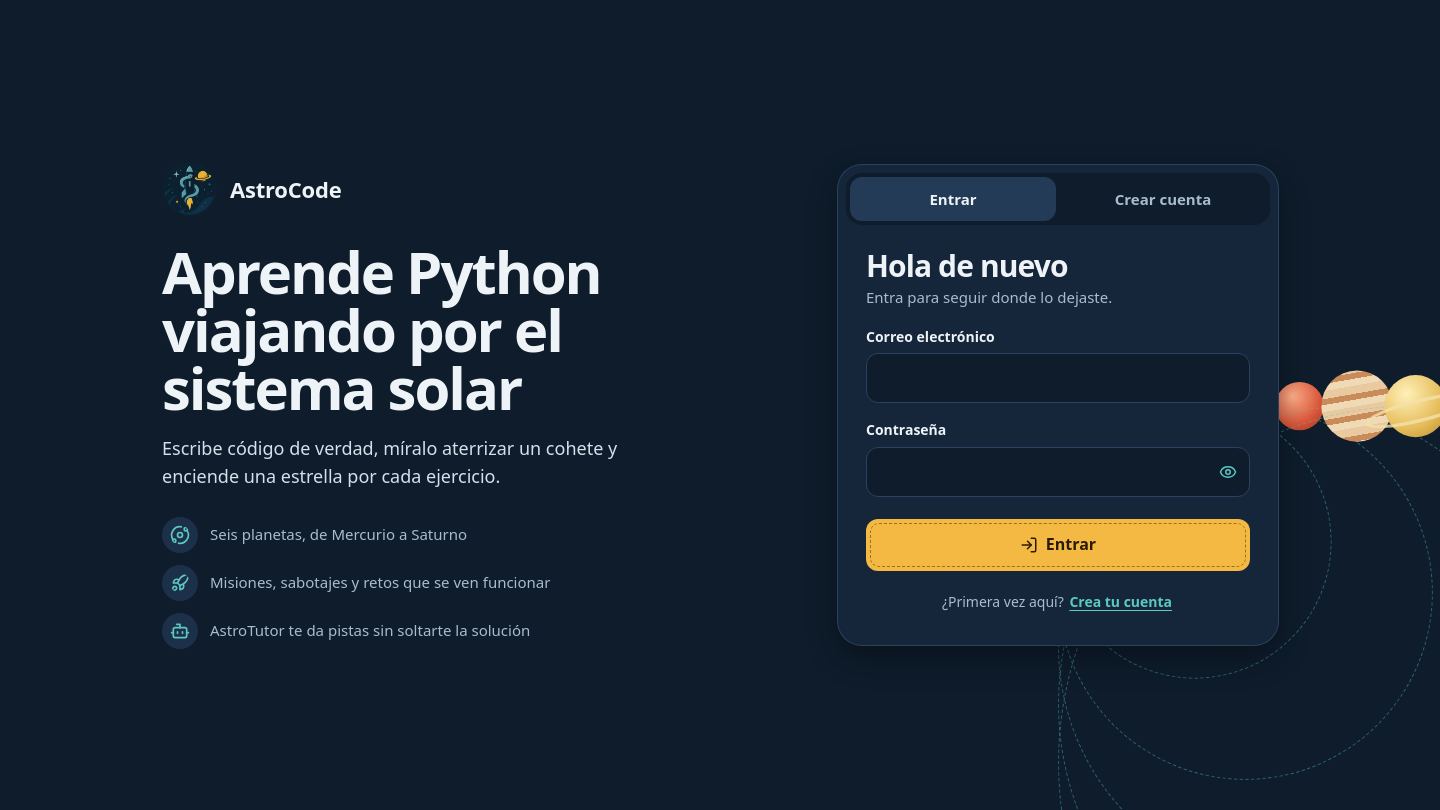
Test: entrar: credenciales malas da un mensaje claro
Type "ana@correo.com" into the field labelled "Correo electrónico" at {"x": 1058, "y": 378}, box x1=866 y1=353 x2=1250 y2=403
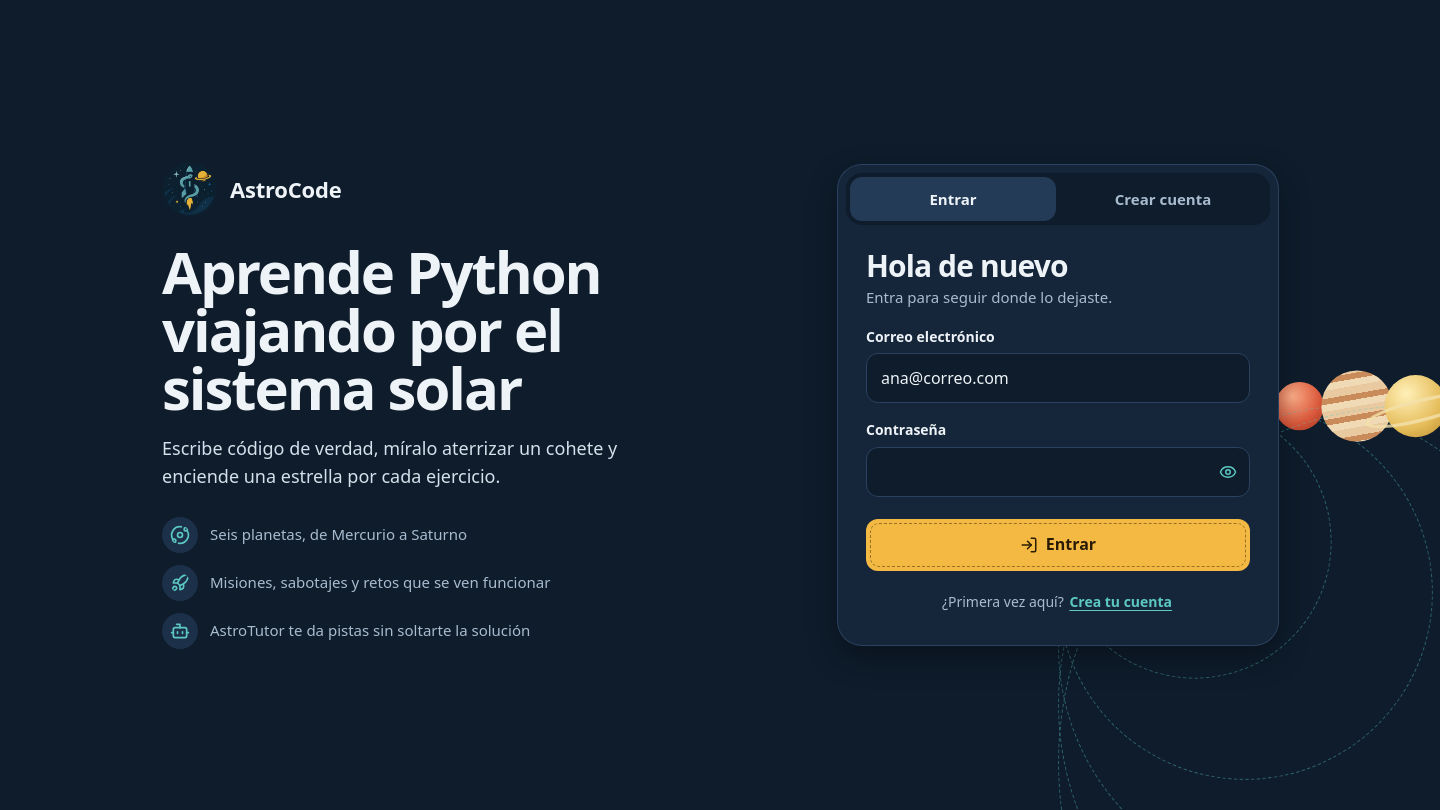
Type "mala12345" into the password field labelled "Contraseña" at {"x": 1058, "y": 472}, box x1=866 y1=447 x2=1250 y2=497
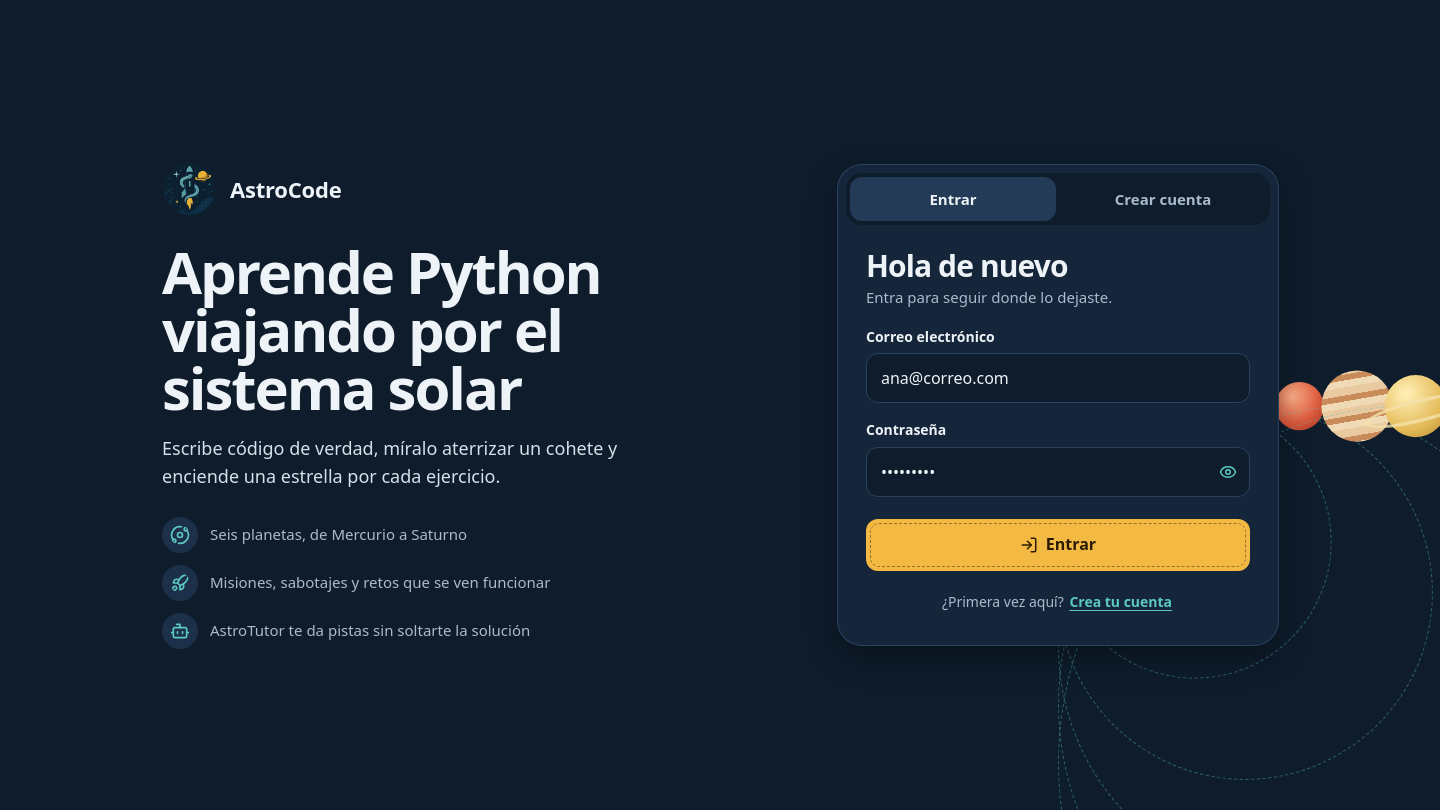
Click the button "Entrar" at {"x": 1058, "y": 545}, box x1=866 y1=519 x2=1250 y2=571
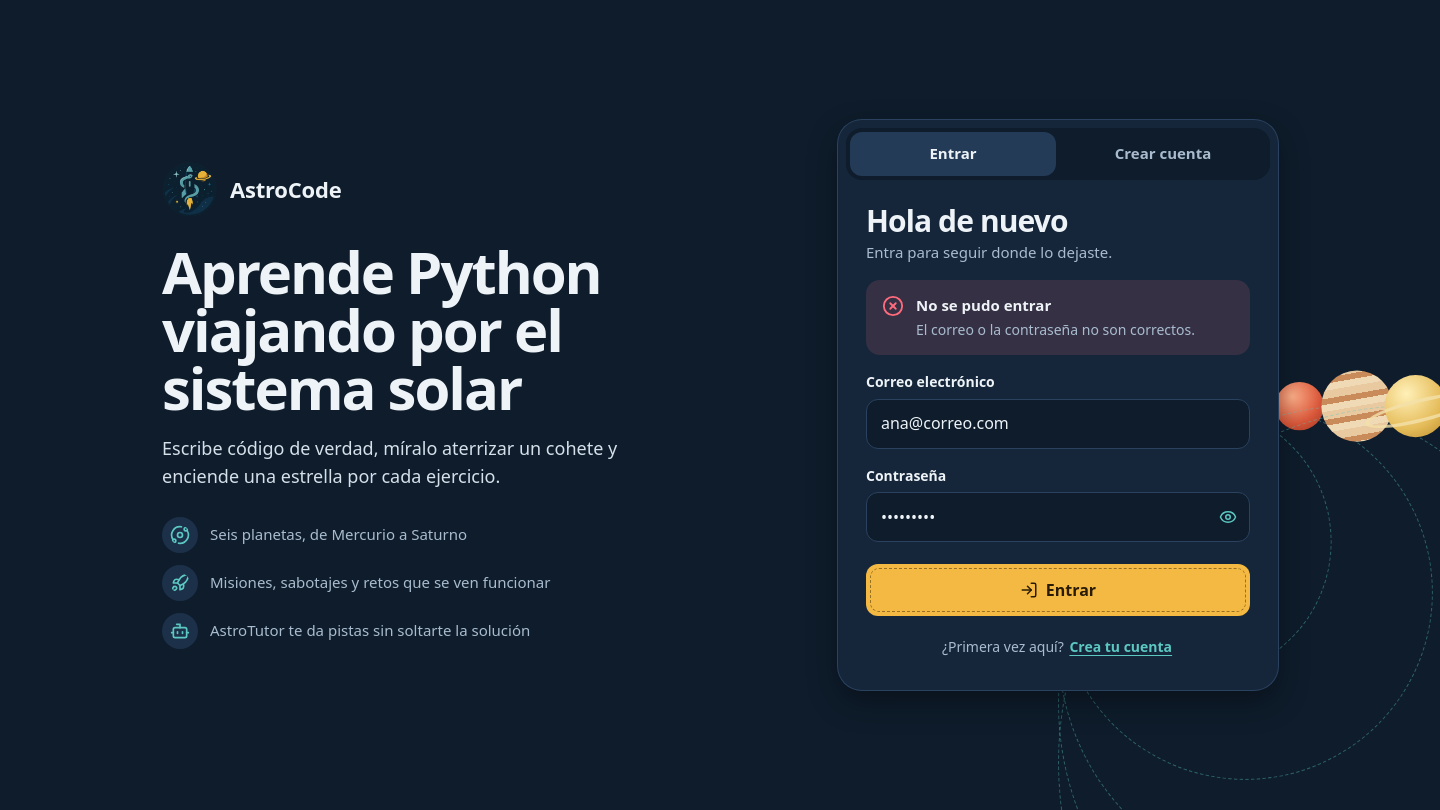
Now the text "El correo o la contraseña no son correctos." is shown, box x1=916 y1=320 x2=1195 y2=339
